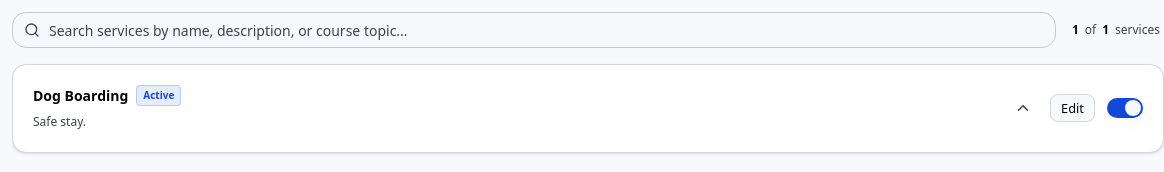
DashboardServicesList Component › should toggle a service off (disable) when an enabled service switch is clicked
Expected: the text "Active" is shown, [136,85,181,106]
Click the switch.
click(1125, 108)  # box [1107,98,1143,118]
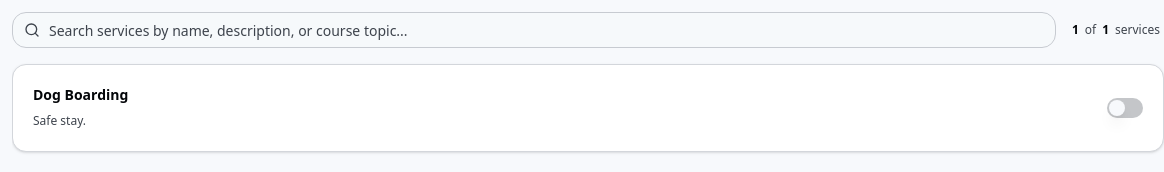
Expected: the text "Active" is gone
